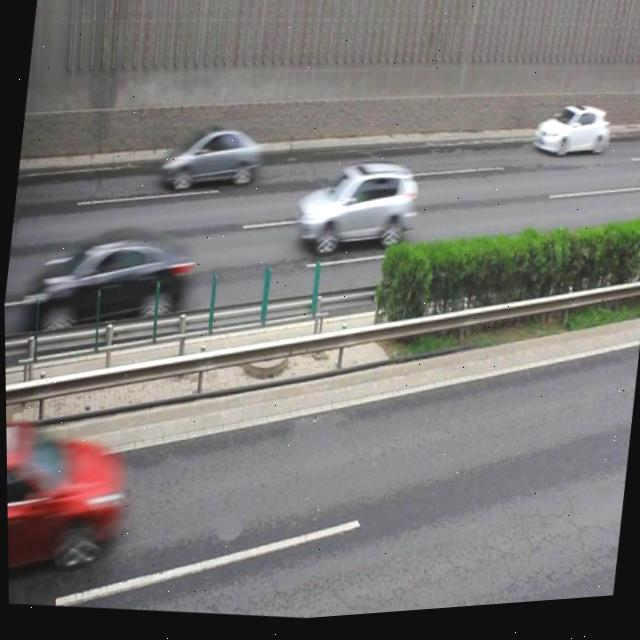car: (29, 213, 198, 348), (5, 417, 128, 591), (288, 154, 422, 272), (157, 117, 265, 202), (529, 105, 611, 171)
